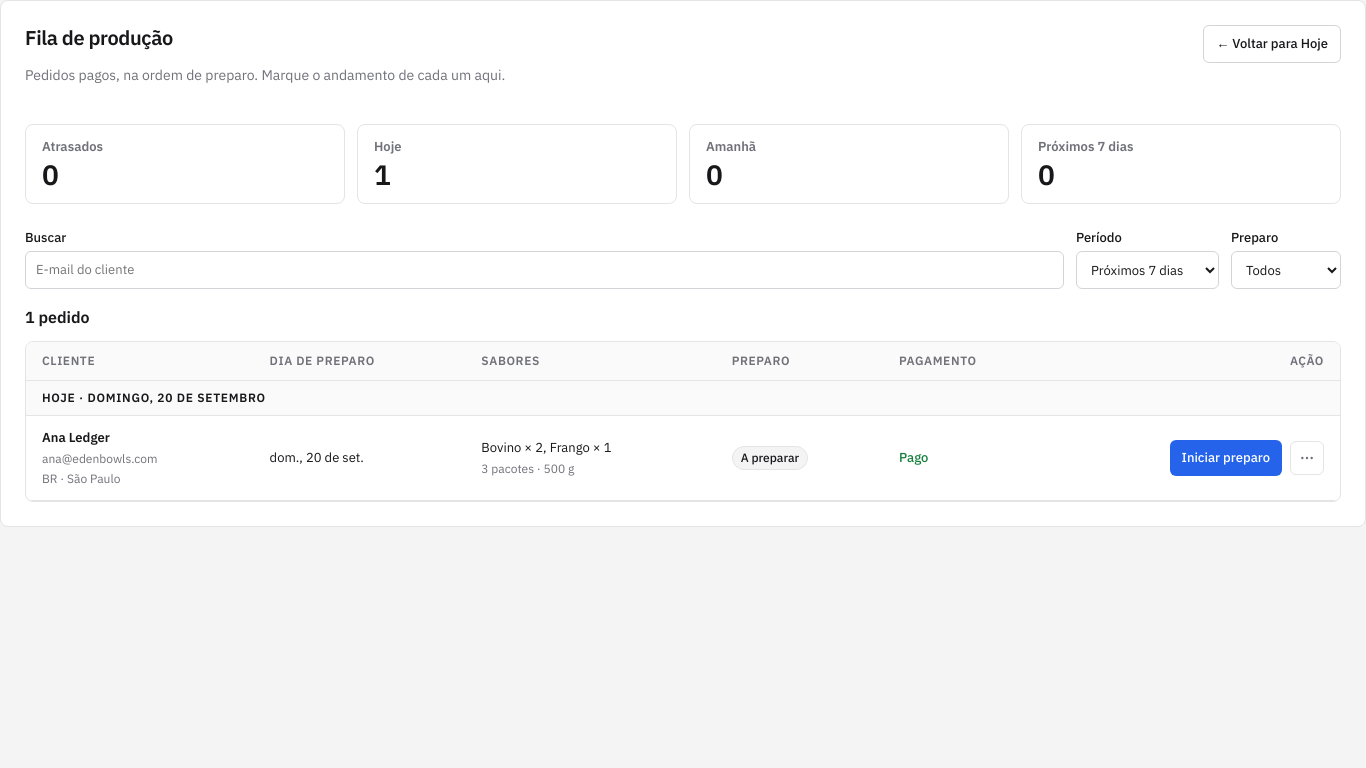
ProductionQueuePage › loads the due counts and a row with what to prepare
Expected: the text "ana@edenbowls.com" is shown, [42,450,158,468]
Expected: the heading "Fila de produção" is shown, [25,24,173,51]
Click the button named "Mais opções para Ana Ledger" at point(1307, 458), box [1290,441,1324,475]
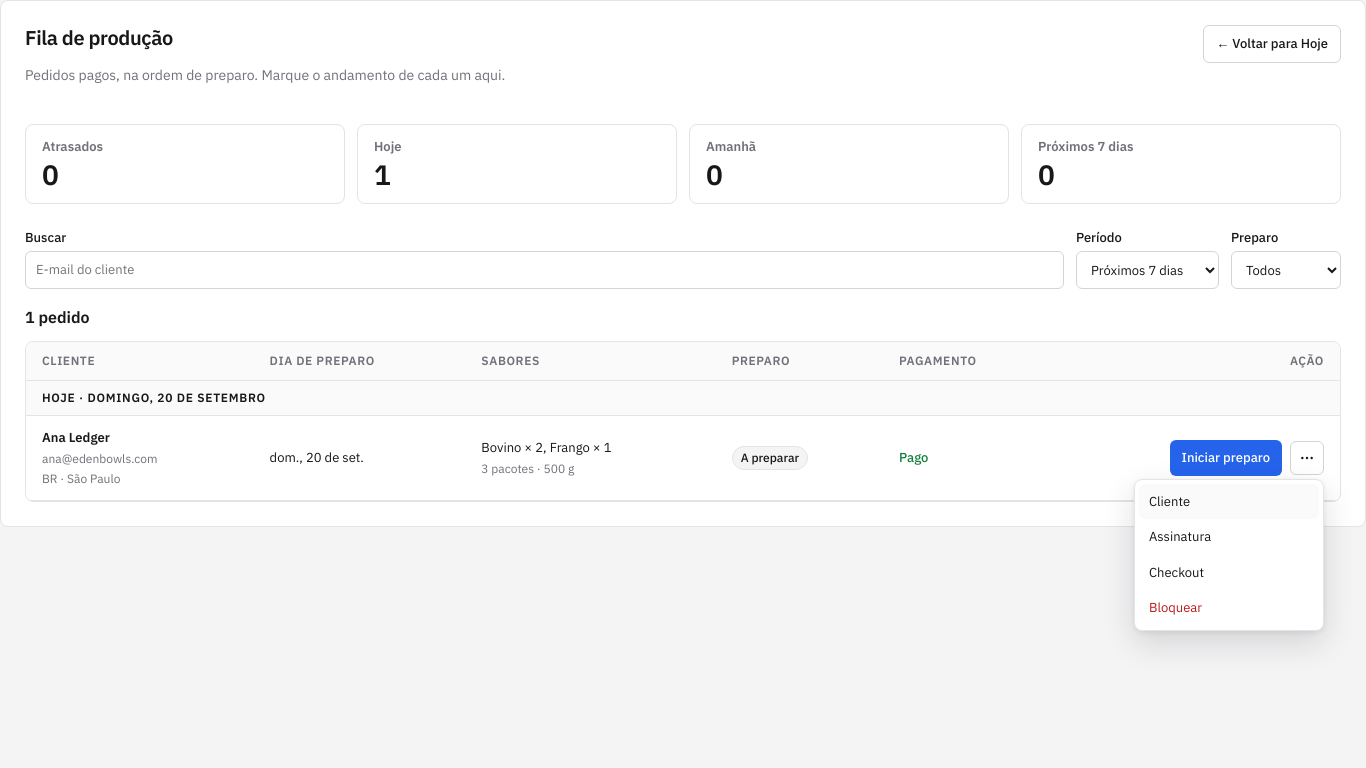
Expected: the menu item "Bloquear" is shown, [1139,590,1319,626]
